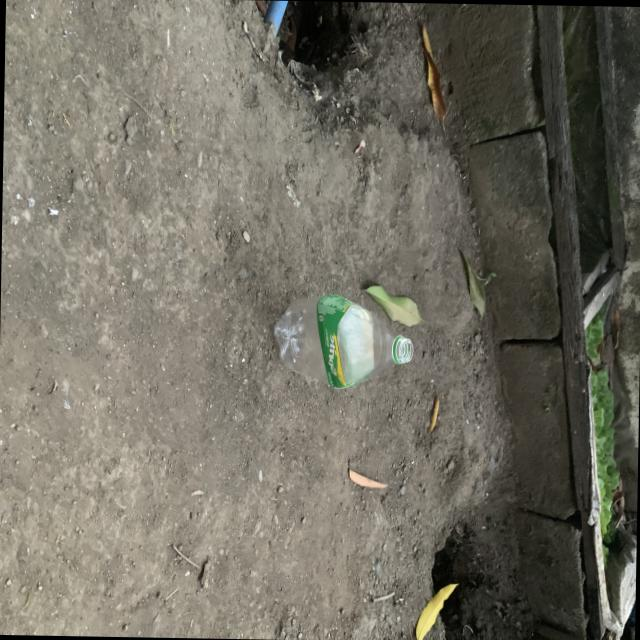Bottle: (273, 293, 413, 387)
